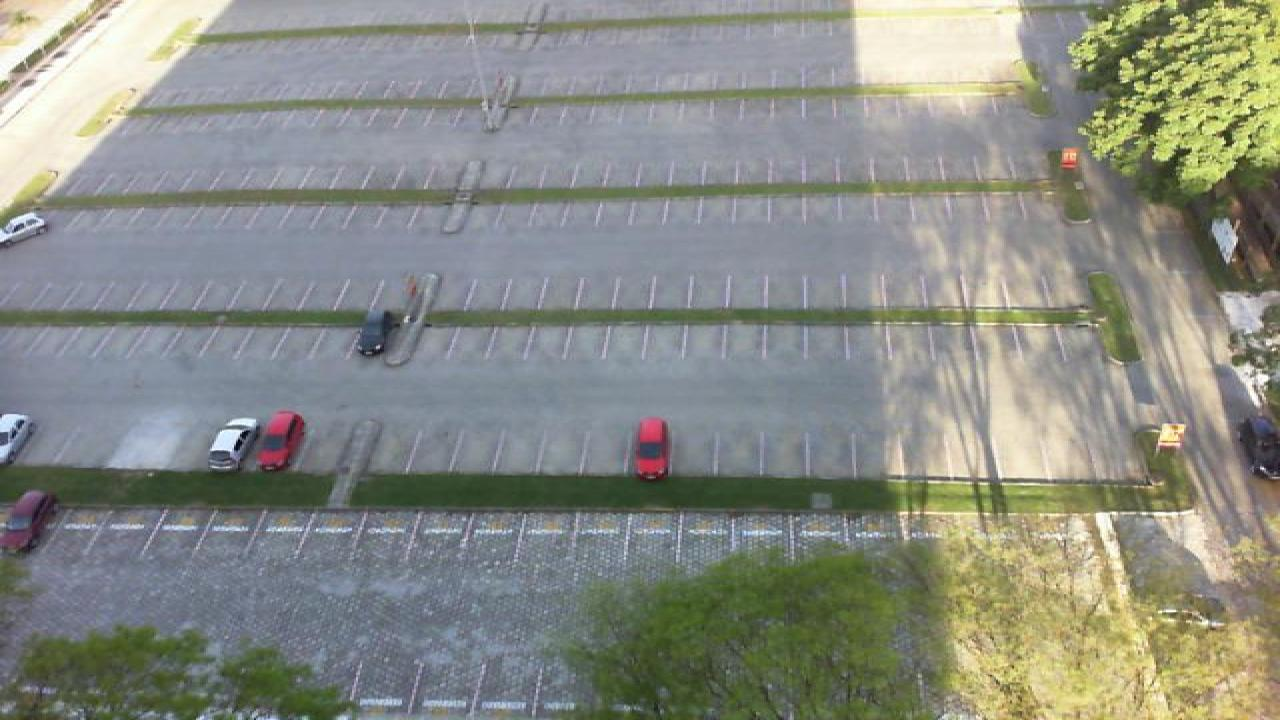Car: (0, 489, 58, 557), (256, 410, 304, 472), (206, 418, 260, 472), (1240, 412, 1280, 480), (632, 417, 672, 480), (354, 308, 396, 358), (0, 413, 34, 466), (0, 214, 46, 246)
